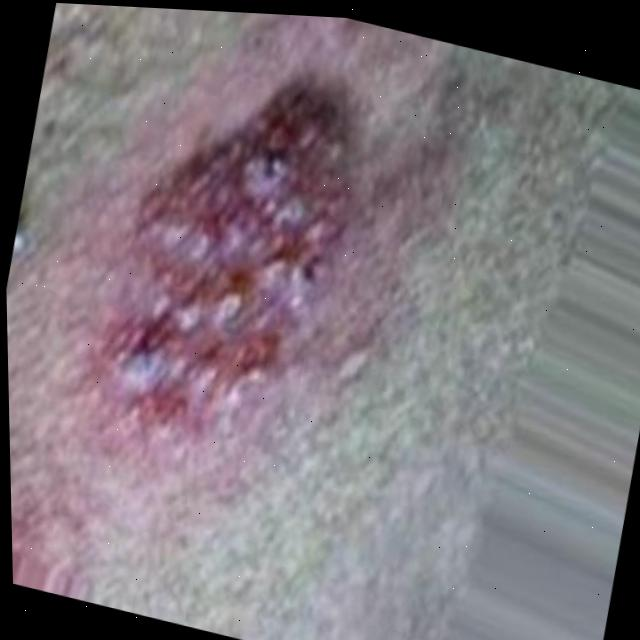Shingles: (79, 45, 377, 457)
